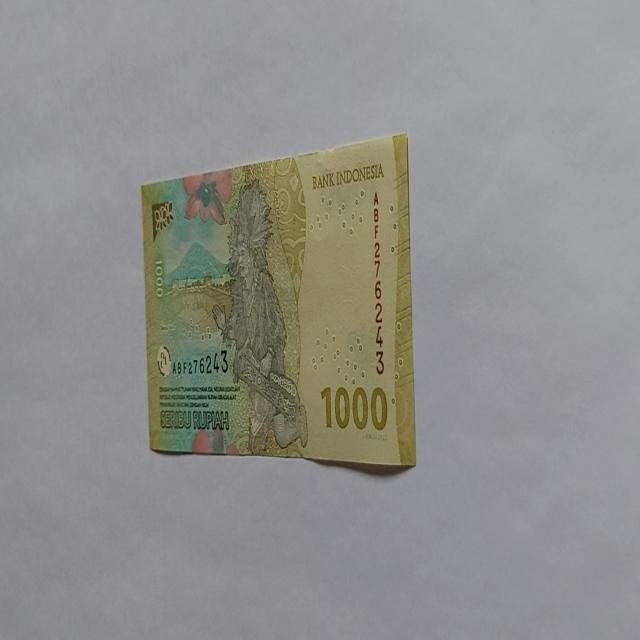seribu rupiah kertas: (140, 132, 416, 470)
